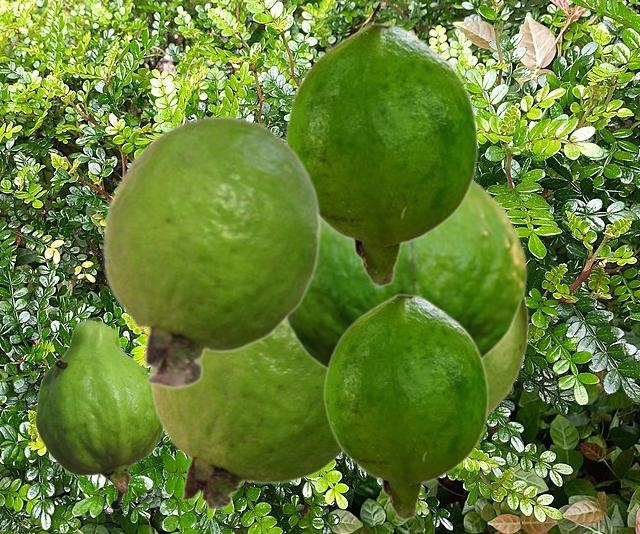guava: (102, 114, 321, 389), (285, 22, 478, 287), (285, 180, 526, 369), (323, 293, 488, 520), (149, 324, 342, 510), (34, 319, 163, 509), (484, 293, 528, 416)
